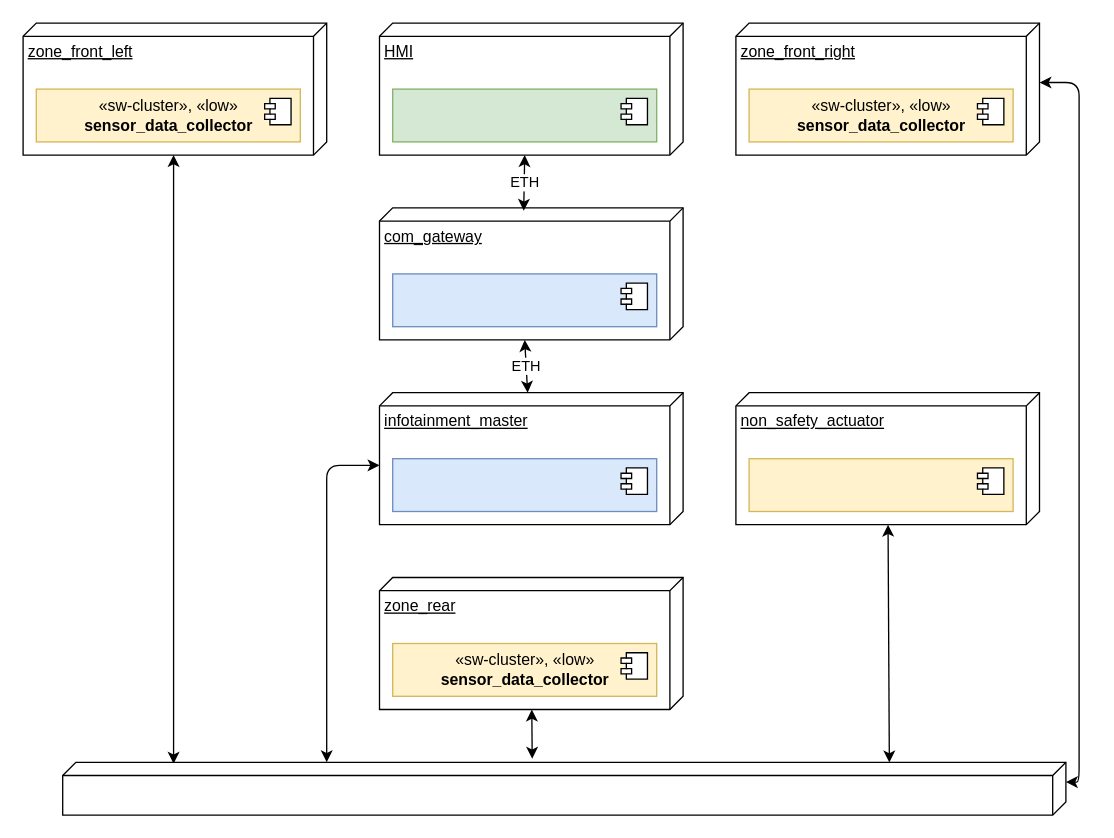
The diagram is 1114 pixels wide and 838 high, and some of its shapes have lost their labels. Here are the shapes that lost their labels. From the top down, the centre of each, then its label:
At point (524, 115): "«sw-cluster», «high» climate_control_hmi_services".
At point (524, 300): "«sw-cluster», «mid» communication_management".
At point (524, 484): "«sw-cluster», «mid» climate_control_services".
At point (880, 484): "«sw-cluster», «low» air_conditioner_actuator".
At point (563, 788): "CAN BUS".
